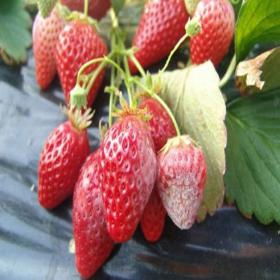Powdery Mildew Fruit: (97, 112, 158, 244), (155, 135, 208, 231)
